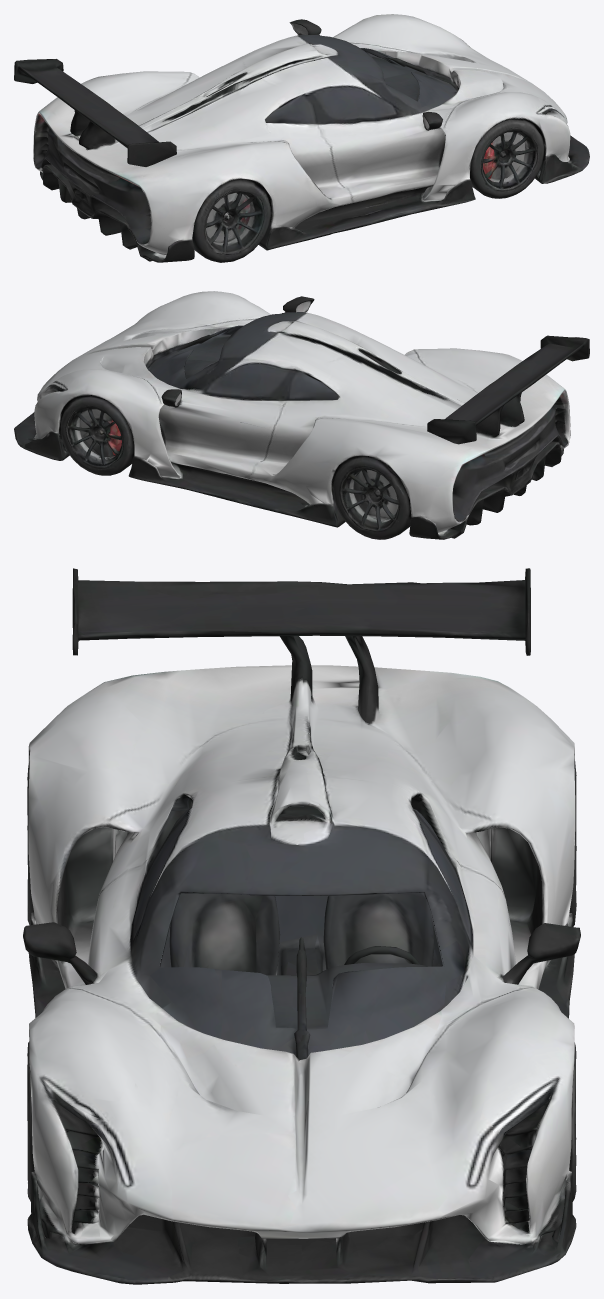
File: sidewinder.glb
The picture shows the model from 3 angles, top to bottom: view 1: azimuth 30°, elevation 25°; view 2: azimuth 150°, elevation 25°; view 3: azimuth 270°, elevation 25°; orthographic projection. The views are drawn at different scales.
Parts seen in each view (by area): view 1: tripo_node_b0977309-0106-4c3a-9a02-b6a9f7a0b676; view 2: tripo_node_b0977309-0106-4c3a-9a02-b6a9f7a0b676; view 3: tripo_node_b0977309-0106-4c3a-9a02-b6a9f7a0b676.
Part boxes in pixels (x1,y1,x2,y2): tripo_node_b0977309-0106-4c3a-9a02-b6a9f7a0b676: (14, 14, 589, 262); tripo_node_b0977309-0106-4c3a-9a02-b6a9f7a0b676: (14, 291, 589, 539); tripo_node_b0977309-0106-4c3a-9a02-b6a9f7a0b676: (23, 568, 580, 1284).
Size of the model in its own units: 1 by 0.2755 by 0.5097.
1 material, 1 textured.
